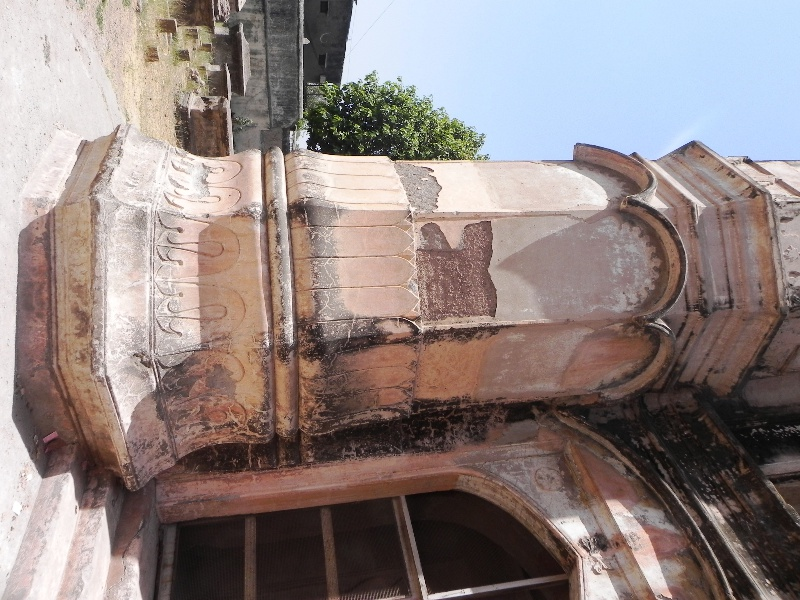Spalling: (418, 219, 499, 326), (390, 160, 444, 216)
